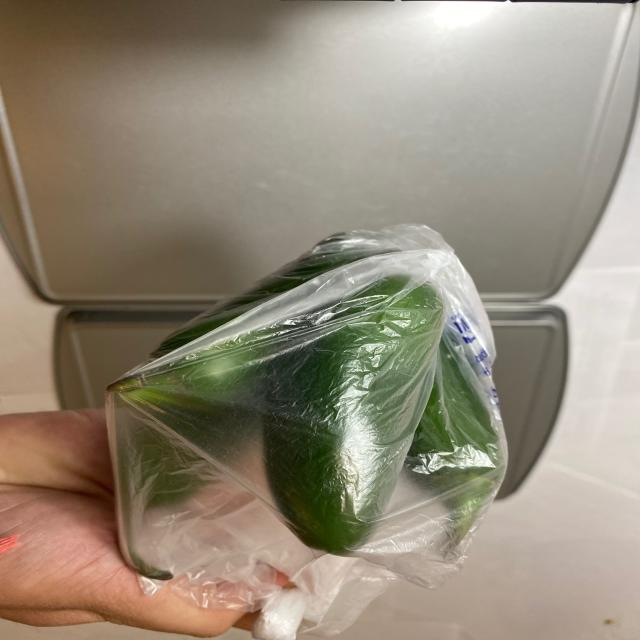chilli: (90, 224, 517, 596)
